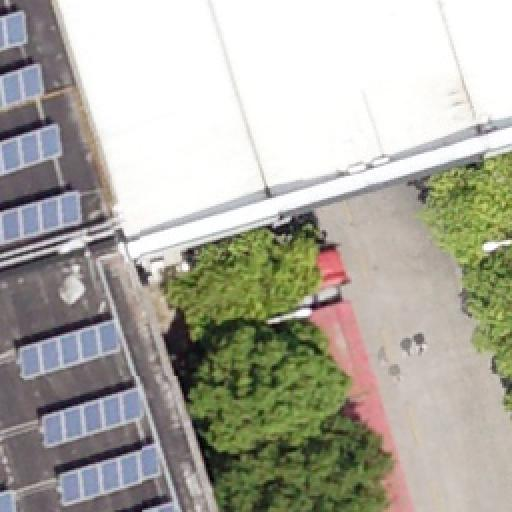solar-panel: (39, 383, 145, 449), (58, 443, 162, 509), (18, 315, 122, 381), (0, 185, 84, 247), (0, 122, 64, 178), (0, 64, 48, 108), (1, 8, 31, 52), (138, 497, 178, 511), (0, 488, 16, 512)
